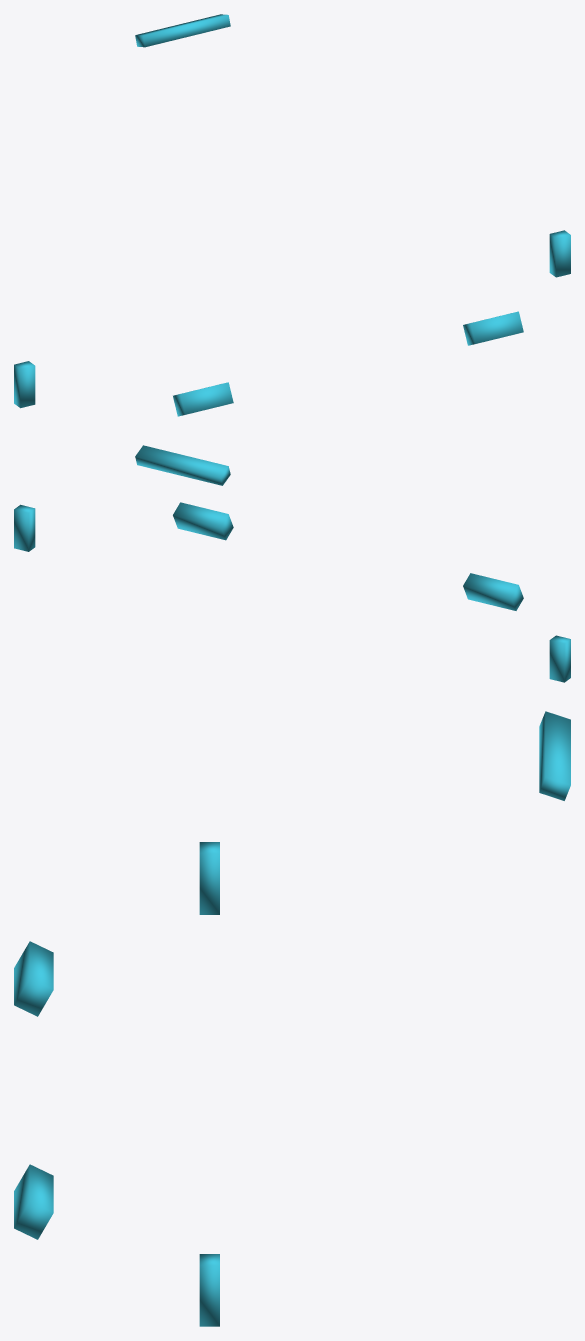
Rendered from scout_rover_emissive.obj.
The picture shows the model from 3 angles, top to bottom: view 1: azimuth 30°, elevation 25°; view 2: azimuth 150°, elevation 25°; view 3: azimuth 270°, elevation 25°; orthographic projection. The views are drawn at different scales.
Parts seen in each view (by area): view 1: scout_rover_emissive; view 2: scout_rover_emissive; view 3: scout_rover_emissive.
Boxes of the visible parts, bbox=[...] form: scout_rover_emissive: bbox=[14, 14, 570, 416]; scout_rover_emissive: bbox=[14, 445, 570, 682]; scout_rover_emissive: bbox=[14, 711, 570, 1326].
Size of the model in its own units: 2.96 by 1.21 by 1.65.
